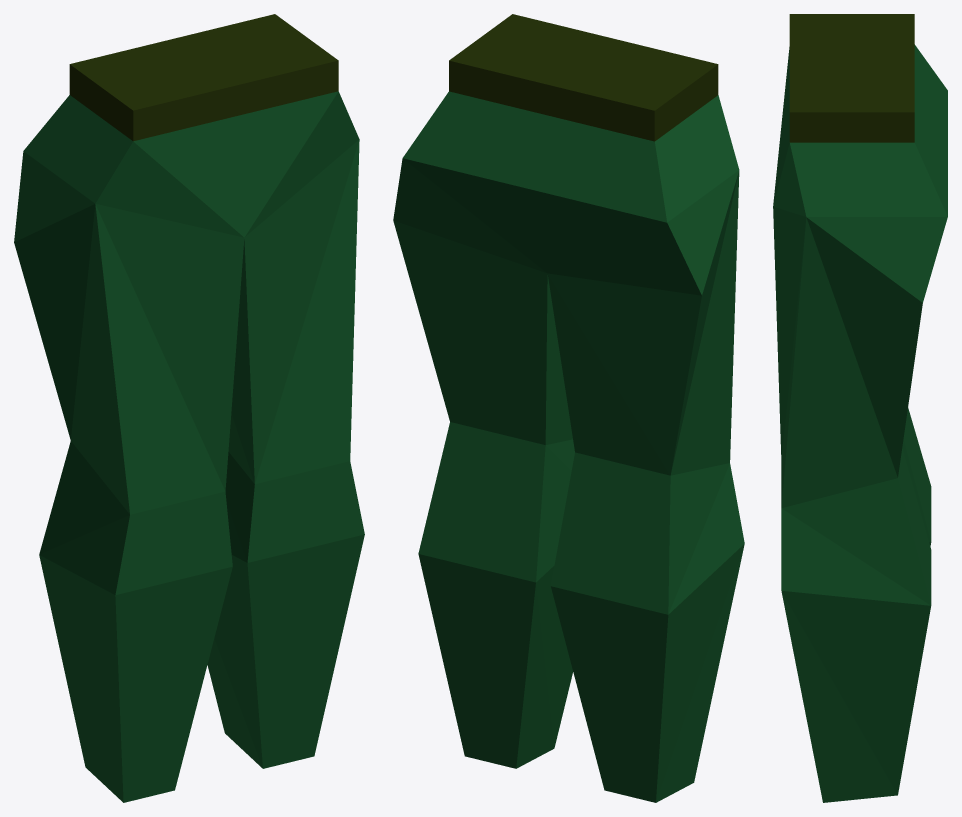
File: model_419_idk.obj
3 renders of one model, left to right at view 1: azimuth 30°, elevation 25°; view 2: azimuth 150°, elevation 25°; view 3: azimuth 270°, elevation 25°, orthographic.
Visible parts, largest first — view 1: 419; view 2: 419; view 3: 419.
Boxes of the visible parts, <box> form: 419: <box>14,14,364,802</box>; 419: <box>393,14,744,802</box>; 419: <box>773,14,947,802</box>.
Size of the model in its own units: 42 by 92 by 21.
